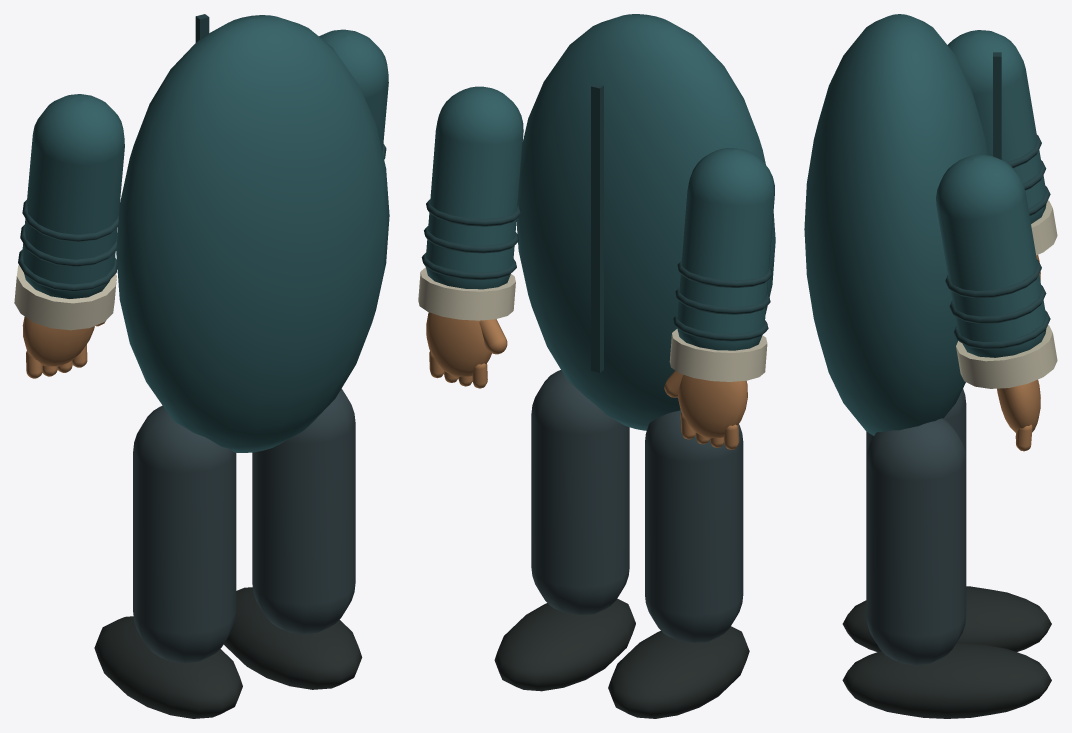
The model's file is self-player.glb.
3 renders of one model, left to right at view 1: azimuth 30°, elevation 25°; view 2: azimuth 150°, elevation 25°; view 3: azimuth 270°, elevation 25°, orthographic. The views are drawn at different scales.
Parts seen in each view (by area): view 1: visitor-jacket-torso, visitor-leg-left, visitor-leg-right, visitor-arm-left, visitor-arm-right, visitor-hand-left; view 2: visitor-jacket-torso, visitor-leg-right, visitor-leg-left, visitor-arm-right, visitor-arm-left, visitor-first-person-body, visitor-hand-right, visitor-hand-left; view 3: visitor-jacket-torso, visitor-leg-right, visitor-arm-right, visitor-arm-left, visitor-leg-left, visitor-hand-right, visitor-first-person-body.
Part boxes in pixels (left/top/right/bottom): visitor-jacket-torso: left=116, top=15, right=389, bottom=452; visitor-leg-left: left=94, top=405, right=242, bottom=718; visitor-leg-right: left=223, top=388, right=362, bottom=689; visitor-arm-left: left=14, top=94, right=124, bottom=330; visitor-arm-right: left=319, top=29, right=388, bottom=159; visitor-hand-left: left=22, top=317, right=105, bottom=366; visitor-jacket-torso: left=516, top=14, right=775, bottom=430; visitor-leg-right: left=494, top=370, right=635, bottom=691; visitor-leg-left: left=608, top=410, right=749, bottom=718; visitor-arm-right: left=418, top=86, right=523, bottom=320; visitor-arm-left: left=669, top=148, right=774, bottom=381; visitor-first-person-body: left=591, top=83, right=603, bottom=372; visitor-hand-right: left=426, top=312, right=507, bottom=377; visitor-hand-left: left=664, top=370, right=747, bottom=438; visitor-jacket-torso: left=804, top=14, right=987, bottom=435; visitor-leg-right: left=842, top=418, right=1051, bottom=718; visitor-arm-right: left=936, top=154, right=1057, bottom=388; visitor-arm-left: left=948, top=30, right=1057, bottom=255; visitor-leg-left: left=842, top=389, right=1051, bottom=651; visitor-hand-right: left=997, top=379, right=1040, bottom=433; visitor-first-person-body: left=993, top=52, right=1001, bottom=159.
Bounding box in the file's own units: 0.826 × 1.53 × 0.5317.
